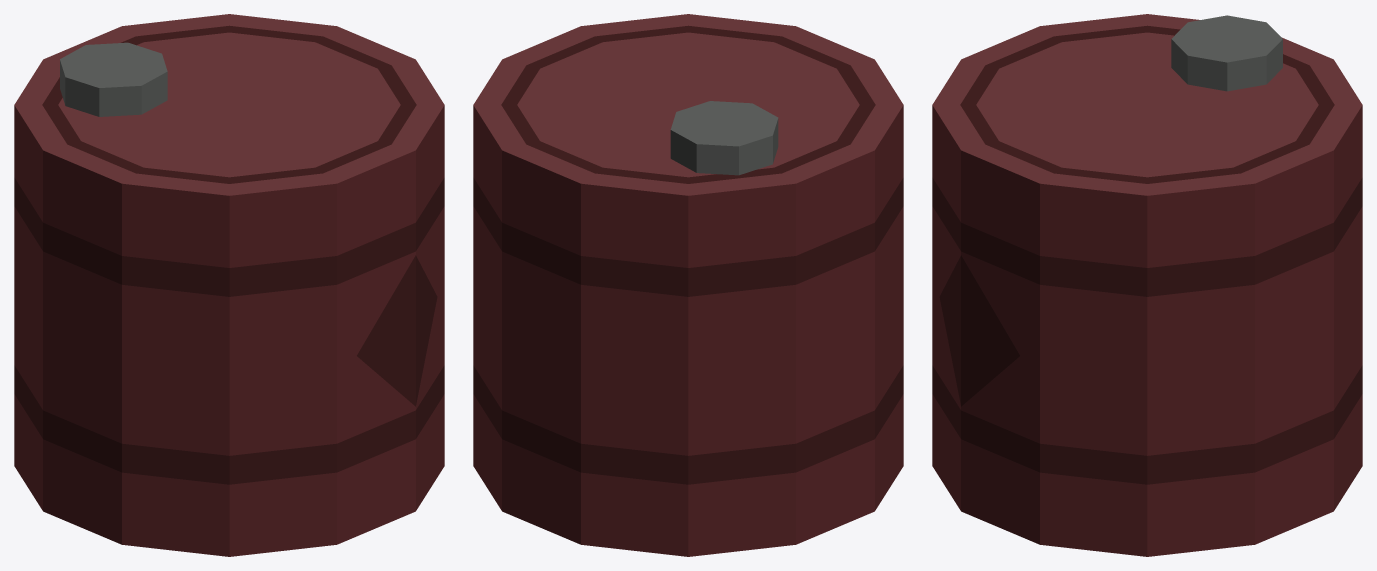
The model's file is vce_deepchem.obj.
3 views of the same model, side by side, from view 1: azimuth 30°, elevation 25°; view 2: azimuth 150°, elevation 25°; view 3: azimuth 270°, elevation 25° (orthographic).
Size of the model in its own units: 0.54 by 0.54 by 0.54.
